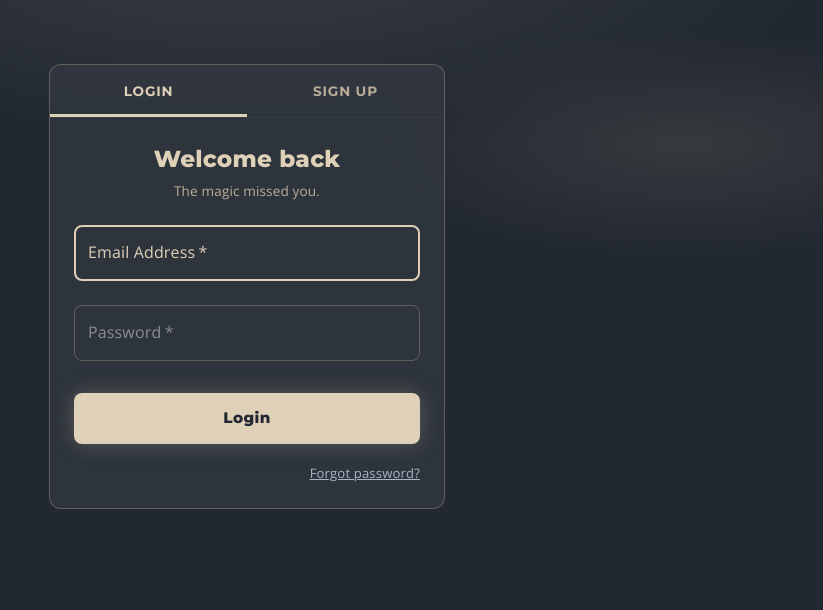
LoginPage Component › should handle unexpected errors gracefully
In the field labelled "Email Address *": (247, 253) [74,225,420,281], type "test@example.com"
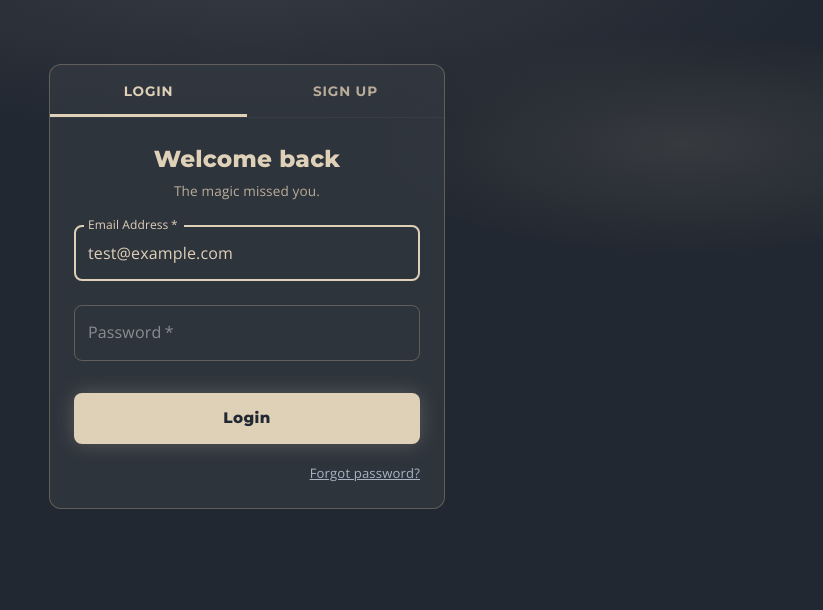
In the password field labelled "Password *": (247, 333) [74,305,420,361], type "password123"
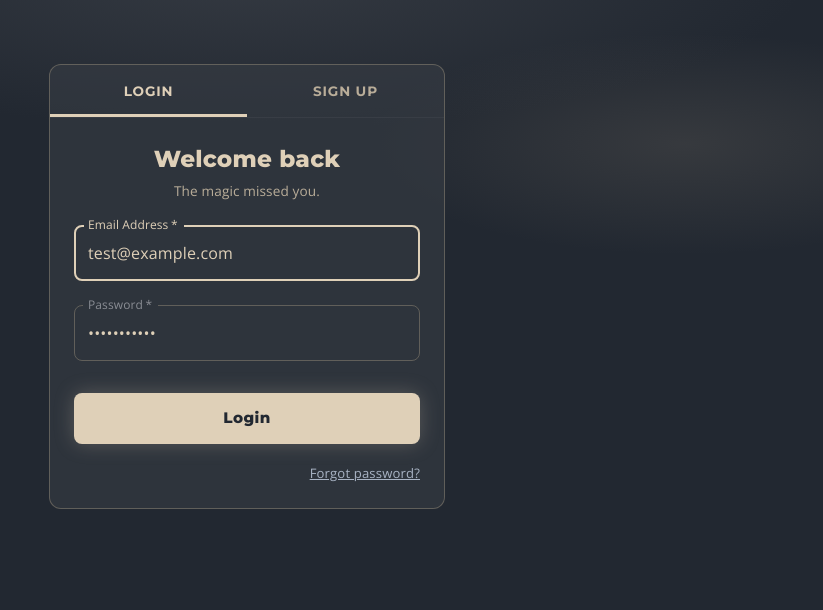
Click the button "Login": click(247, 418) [74,393,420,444]
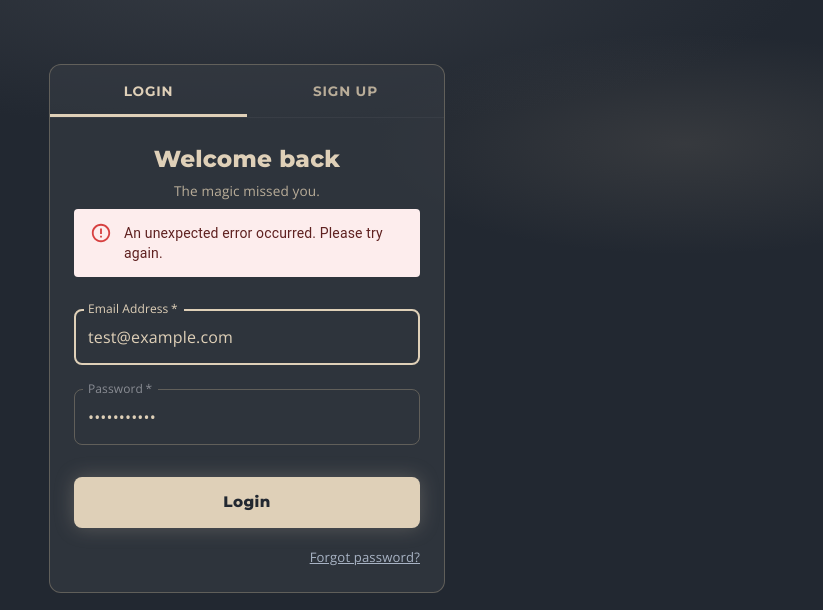
Result: the text "An unexpected error occurred. Please try again." is shown at [124,215,404,271]
